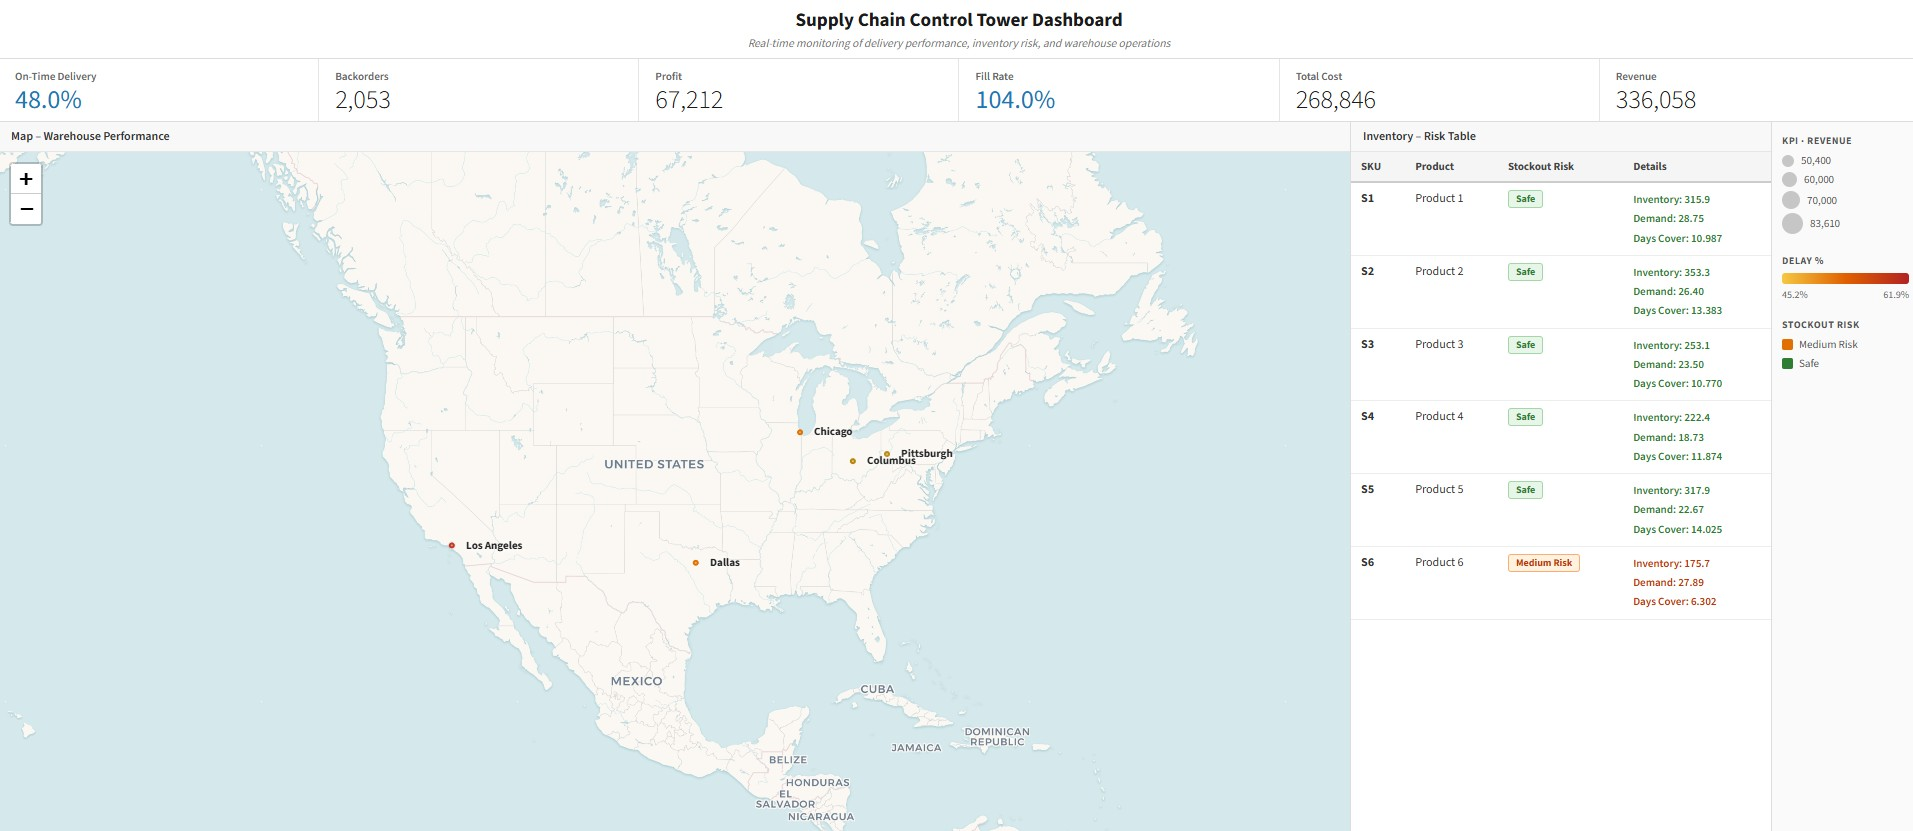

The dashboard page shown, as its layout file describes it:
{"tool":"tableau","page":{"name":"Dashboard ","canvas":[1500,800],"ordinal":0},"visuals":[{"type":"text","box":[8,8,1484,100]},{"type":"text","box":[8,108,197,51.5]},{"type":"text","box":[205,108,195,51.5]},{"type":"text","box":[400,108,177,51.5]},{"type":"text","box":[577,108,186,51.5]},{"type":"text","box":[763,108,204,51.5]},{"type":"text","box":[967,108,345,51.5]},{"type":"legend","title":"Map - Warehouse Performance","param":"[federated.1b4la1a080qw0d14ufc8706wikm2].[sum:Calculation_2163135258345066500:qk","box":[1312,108,180,114]},{"type":"worksheet","title":"KPI - On Time Delivery","mark":"Automatic","box":[8,159.5,197,76.8]},{"type":"worksheet","title":"KPI - Backorders","mark":"Automatic","box":[205,159.5,195,76.8]},{"type":"worksheet","title":"KPI - Profit","mark":"Automatic","box":[400,159.5,177,76.8]},{"type":"worksheet","title":"KPI - Fill Rate","mark":"Text","box":[577,159.5,186,76.8]},{"type":"worksheet","title":"KPI - Total Cost","mark":"Automatic","box":[763,159.5,204,76.8]},{"type":"worksheet","title":"KPI - Revenue","mark":"Automatic","box":[967,159.5,345,76.8]},{"type":"legend","title":"Map - Warehouse Performance","param":"[federated.1b4la1a080qw0d14ufc8706wikm2].[usr:Calculation_2163135258349801480:qk","box":[1312,222,180,73]},{"type":"worksheet","title":"Map - Warehouse Performance","mark":"Automatic","rows":["Latitude"],"cols":["Longitude"],"box":[8,236.3,652,555.7]},{"type":"worksheet","title":"Inventory - Risk Table","mark":"Text","rows":["SKU","ProductName","Calculation_2163135258352279562"],"box":[660,236.3,620.5,555.7]},{"type":"blank","box":[1280.5,236.3,31.5,555.7]},{"type":"legend","title":"Inventory - Risk Table","param":"[federated.1b4la1a080qw0d14ufc8706wikm2].[usr:Calculation_2163135258352279562:nk","box":[1312,295,180,147]}]}

Visuals, with their boxes on the page's 1500x800 design canvas (x1, y1, x2, y2). These are canvas units, not pixel positions in the 1913x831 screenshot, which may show the page scaled, cropped or inside an application window:
text: box=[8, 8, 1492, 108]
text: box=[8, 108, 205, 160]
text: box=[205, 108, 400, 160]
text: box=[400, 108, 577, 160]
text: box=[577, 108, 763, 160]
text: box=[763, 108, 967, 160]
text: box=[967, 108, 1312, 160]
"Map - Warehouse Performance" legend: box=[1312, 108, 1492, 222]
"KPI - On Time Delivery" worksheet: box=[8, 160, 205, 236]
"KPI - Backorders" worksheet: box=[205, 160, 400, 236]
"KPI - Profit" worksheet: box=[400, 160, 577, 236]
"KPI - Fill Rate" worksheet (Text marks): box=[577, 160, 763, 236]
"KPI - Total Cost" worksheet: box=[763, 160, 967, 236]
"KPI - Revenue" worksheet: box=[967, 160, 1312, 236]
"Map - Warehouse Performance" legend: box=[1312, 222, 1492, 295]
"Map - Warehouse Performance" worksheet: box=[8, 236, 660, 792]
"Inventory - Risk Table" worksheet (Text marks): box=[660, 236, 1280, 792]
blank: box=[1280, 236, 1312, 792]
"Inventory - Risk Table" legend: box=[1312, 295, 1492, 442]
